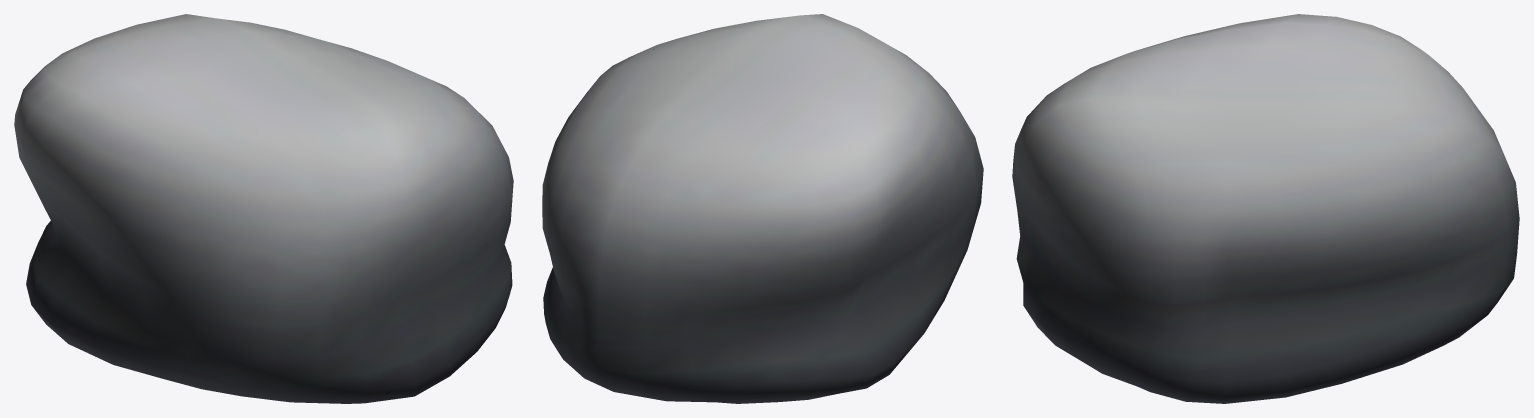
The model's file is M_Rock_Medium_04.fbx.
3 renders of one model, left to right at view 1: azimuth 30°, elevation 25°; view 2: azimuth 150°, elevation 25°; view 3: azimuth 270°, elevation 25°, orthographic. The views are drawn at different scales.
Visible parts, largest first — view 1: M_Rock_Medium_04; view 2: M_Rock_Medium_04; view 3: M_Rock_Medium_04.
Part boxes in pixels (left/top/right/bottom): M_Rock_Medium_04: left=14, top=14, right=513, bottom=403; M_Rock_Medium_04: left=542, top=14, right=983, bottom=403; M_Rock_Medium_04: left=1012, top=14, right=1519, bottom=403.
Size of the model in its own units: 1958 by 1331 by 2370.
1 material, 1 textured.
